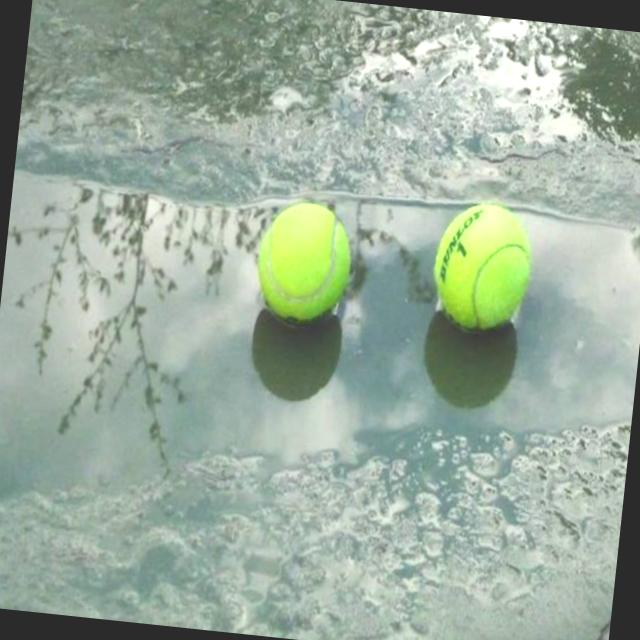Tennis ball: (428, 198, 536, 332), (252, 198, 353, 324)
